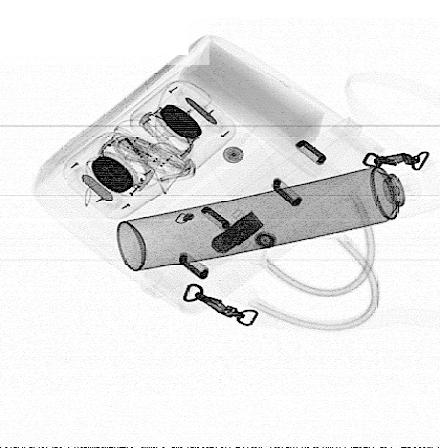Sprayer: (116, 152, 439, 272)
